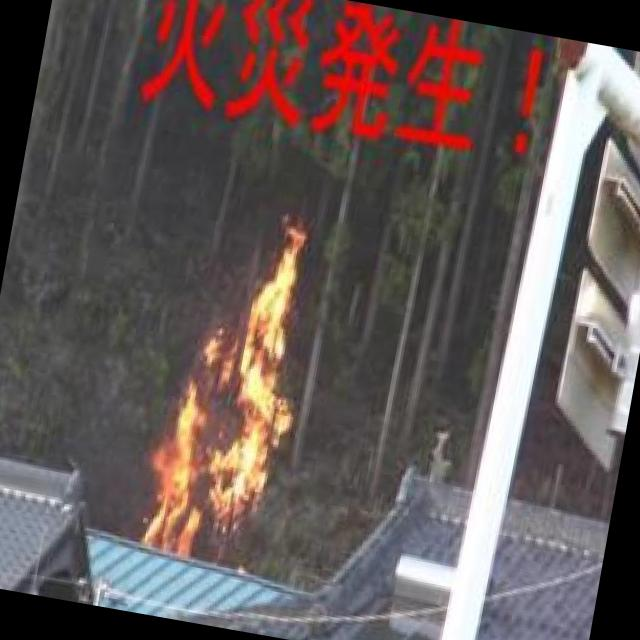Fire: (128, 184, 342, 580)
